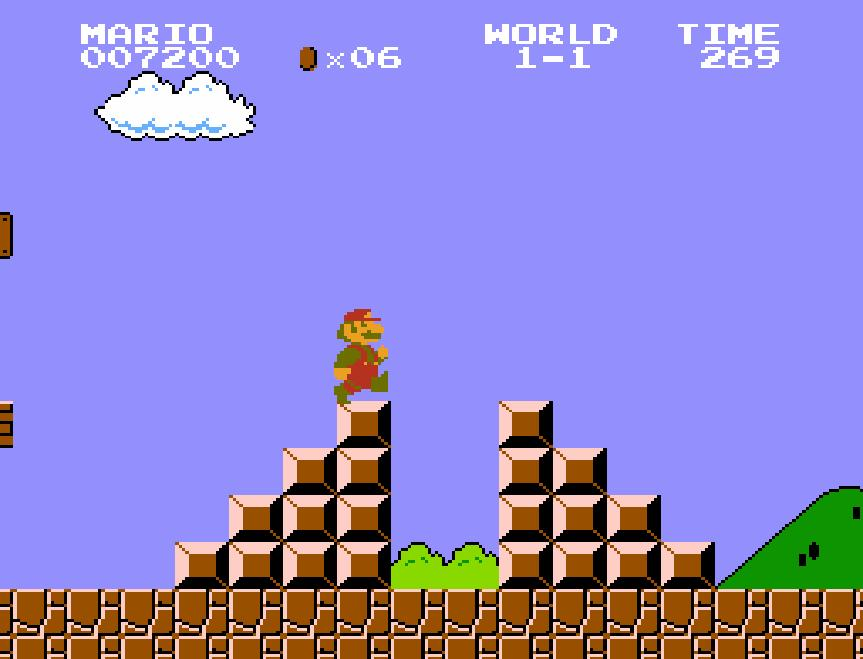big_mario: (332, 313, 390, 411)
